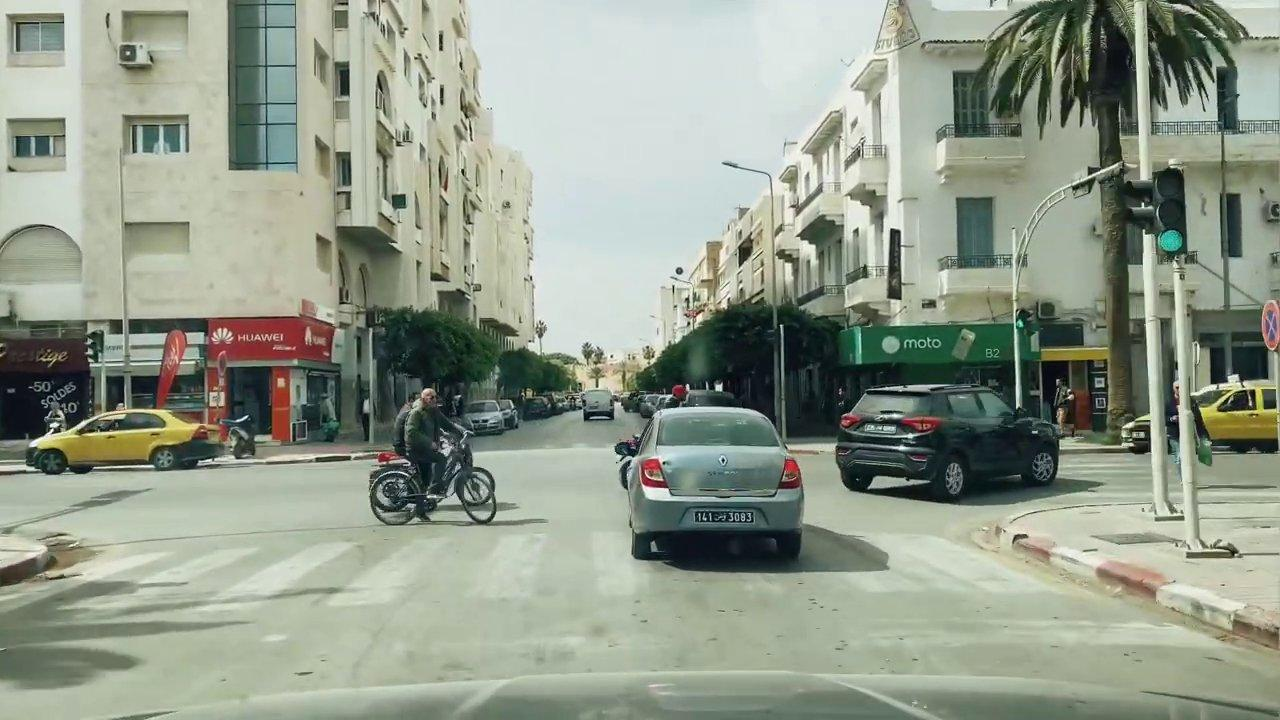no parking: (1260, 303, 1280, 354)
